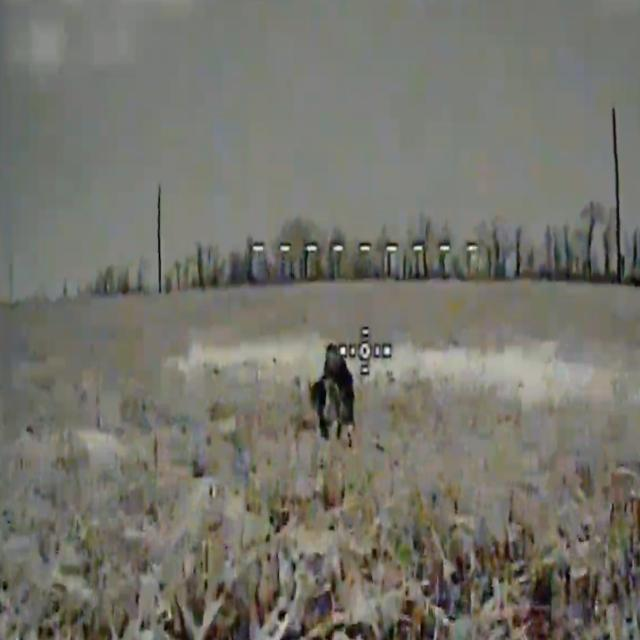infantry: (308, 342, 358, 447)
